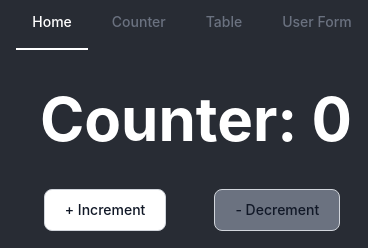
Scenario: Counter component › increments count when Increment button is clicked
This screenshot has width=368, height=248.
Click the button "+ Increment".
click(105, 210)  # box [44,189,166,231]
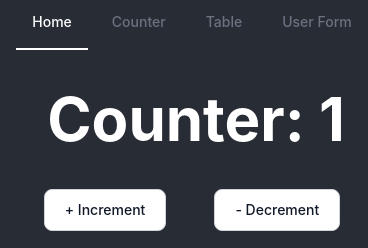
Check: the heading "Counter: 1" is shown, box [47,83,345,155]
